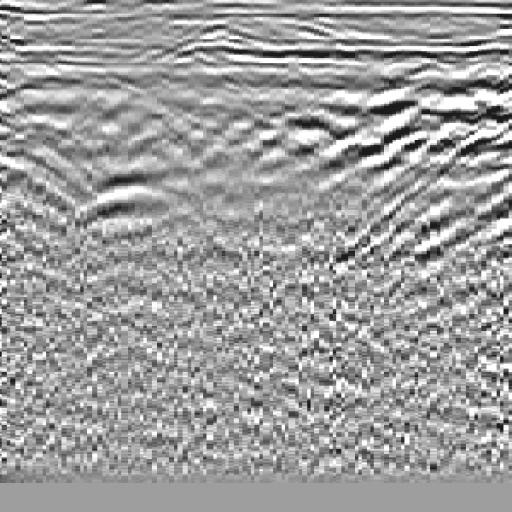metalic: (63, 40, 214, 267)
nonmetalic: (323, 45, 512, 285)
